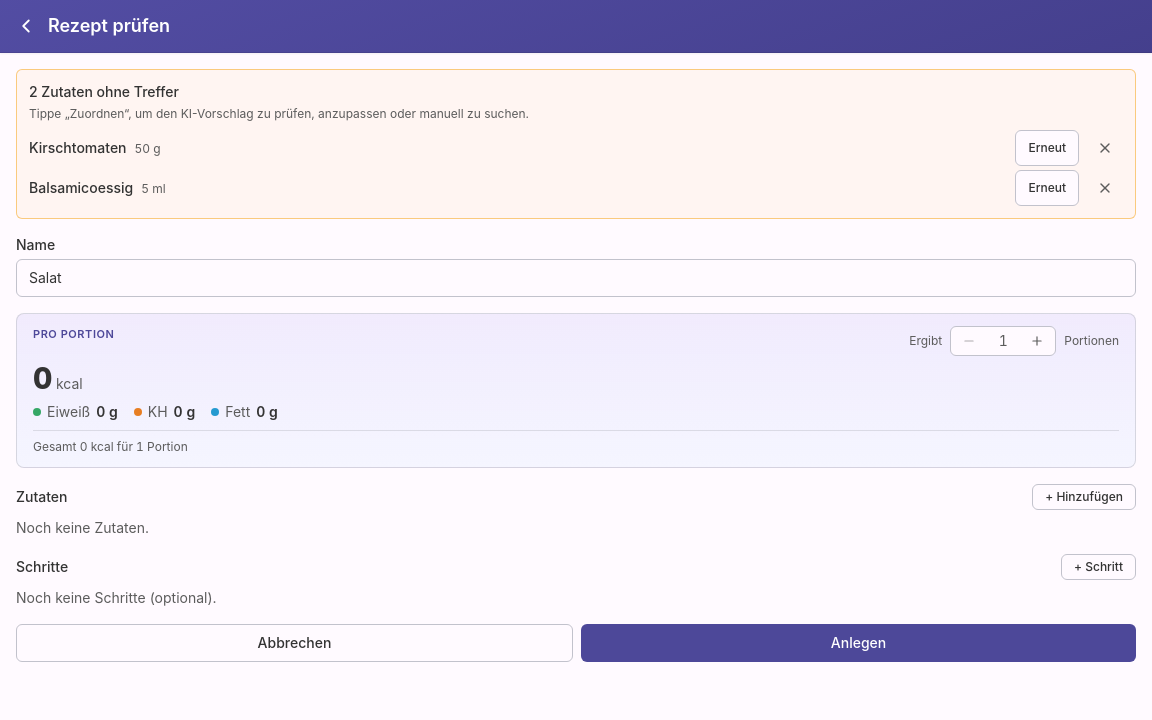
Test case: resolve flow on the review screen › keeps manual catalog + discard reachable when the proposal errors
The width and height of the screenshot is (1152, 720).
Click the button labelled "Erneut" in the row of "Kirschtomaten" at (1047, 148), box [1015, 130, 1079, 166]
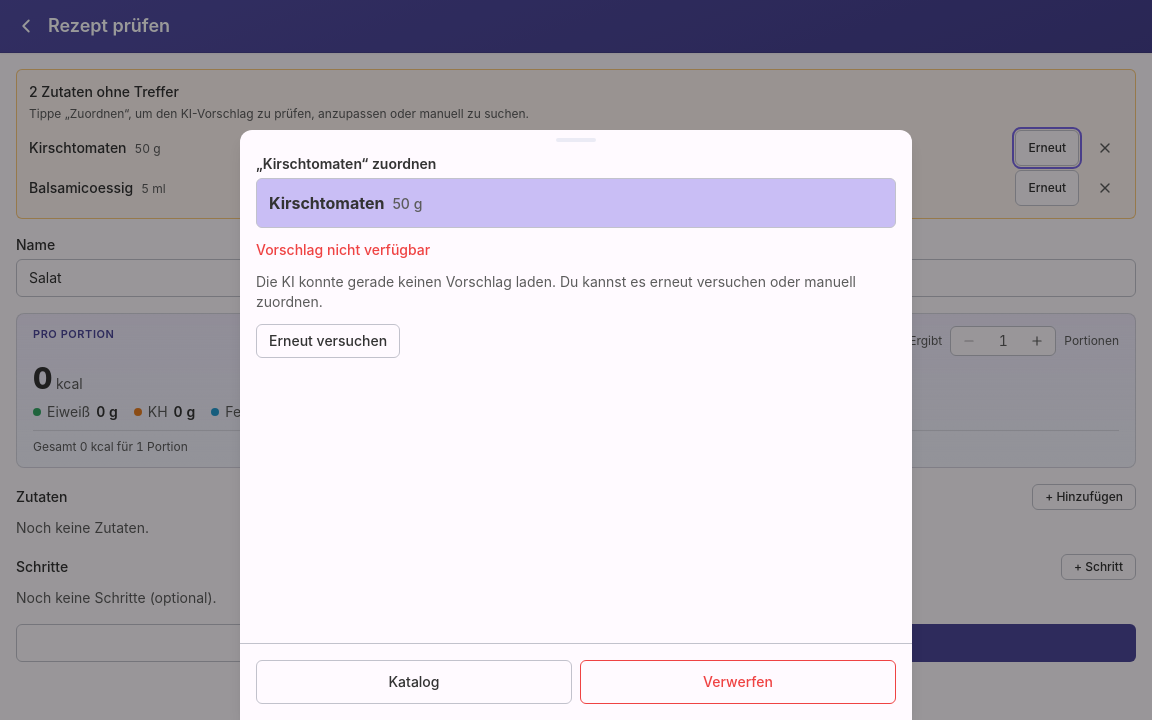
Expected: the button "Katalog" is shown, [256, 660, 572, 704]
Expected: the button "Verwerfen" is shown, [580, 660, 896, 704]
